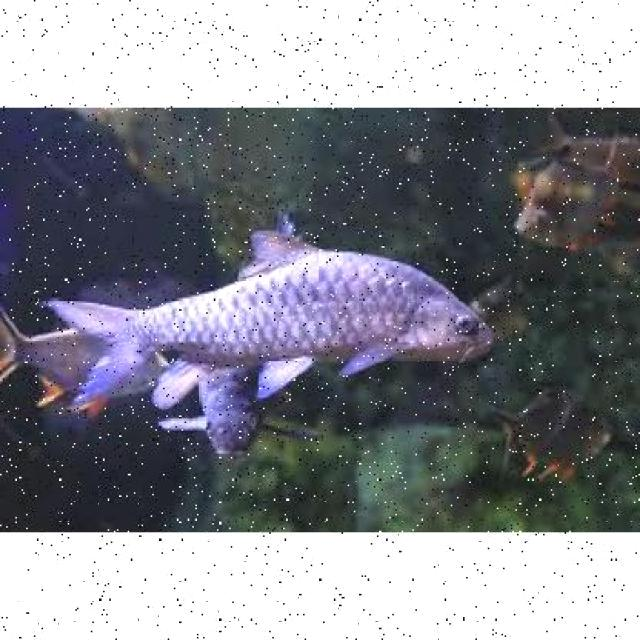ikan-mas: (88, 235, 494, 380), (162, 373, 312, 458)
